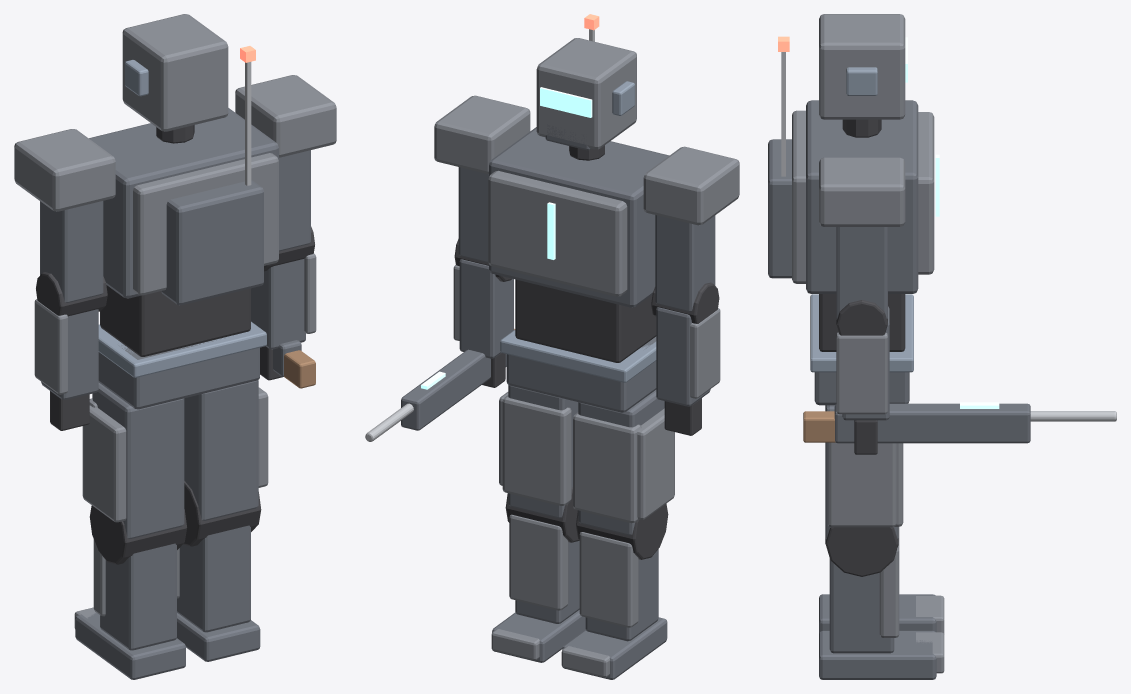
File: robot_g2.glb
3 views of the same model, side by side, from view 1: azimuth 30°, elevation 25°; view 2: azimuth 150°, elevation 25°; view 3: azimuth 270°, elevation 25° (orthographic). The views are drawn at different scales.
Visible parts, largest first — view 1: backpack, chest, head, thigh2, thigh0, back_plate, abdomen, shin0, shin2, pauldron0, pauldron2, pelvis (+22 smaller); view 2: chest_plate, chest, abdomen, head, thigh_plate2, thigh_plate0, pauldron0, pauldron2, shin_plate2, shin_plate0, upperarm0, pelvis (+22 smaller); view 3: chest, head, rifle_body, pauldron2, thigh_side2, shin2, forearm_plate2, foot2, upperarm2, backpack, knee2, chest_plate (+17 smaller).
Boxes of the visible parts, x1,y1,x2,y2 form: backpack: [161, 180, 263, 305]; chest: [89, 108, 278, 298]; head: [122, 14, 228, 131]; thigh2: [184, 380, 258, 520]; thigh0: [92, 382, 184, 538]; back_plate: [133, 153, 278, 295]; abdomen: [100, 285, 250, 356]; shin0: [100, 543, 176, 650]; shin2: [177, 525, 250, 632]; pauldron0: [14, 129, 115, 211]; pauldron2: [235, 75, 336, 157]; pelvis: [98, 338, 259, 409]; chest_plate: [488, 170, 627, 296]; chest: [489, 127, 668, 307]; abdomen: [515, 279, 656, 362]; head: [536, 38, 636, 149]; thigh_plate2: [502, 395, 571, 505]; thigh_plate0: [573, 412, 641, 523]; pauldron0: [643, 146, 739, 225]; pauldron2: [434, 95, 530, 174]; shin_plate2: [509, 514, 568, 610]; shin_plate0: [579, 532, 638, 627]; upperarm0: [655, 215, 715, 311]; pelvis: [506, 336, 656, 412]; chest: [806, 100, 918, 293]; head: [819, 14, 905, 119]; rifle_body: [834, 403, 1030, 443]; pauldron2: [819, 157, 905, 226]; thigh_side2: [827, 442, 896, 527]; shin2: [829, 559, 894, 653]; forearm_plate2: [836, 332, 887, 414]; foot2: [819, 630, 936, 679]; upperarm2: [836, 227, 887, 319]; backpack: [768, 139, 791, 278]; knee2: [825, 527, 898, 576]; chest_plate: [918, 112, 934, 274].
Size of the model in its own units: 0.8671 by 1.82 by 0.9154.
